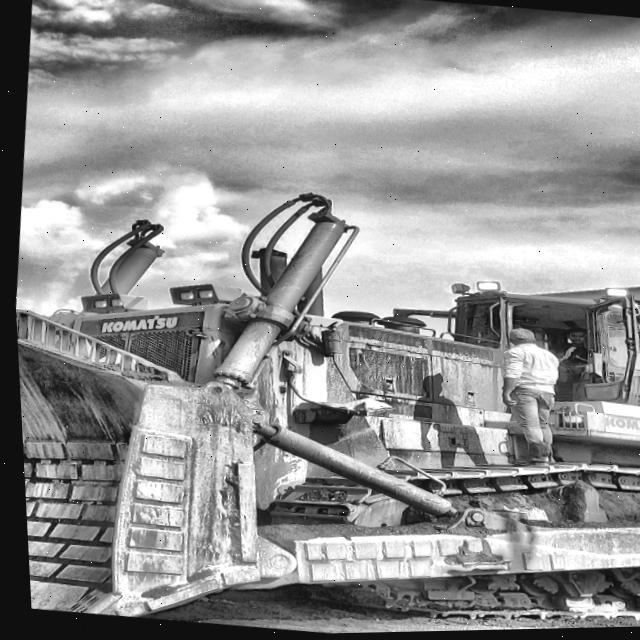buldozerpayloadergrader: (71, 384, 255, 617)
